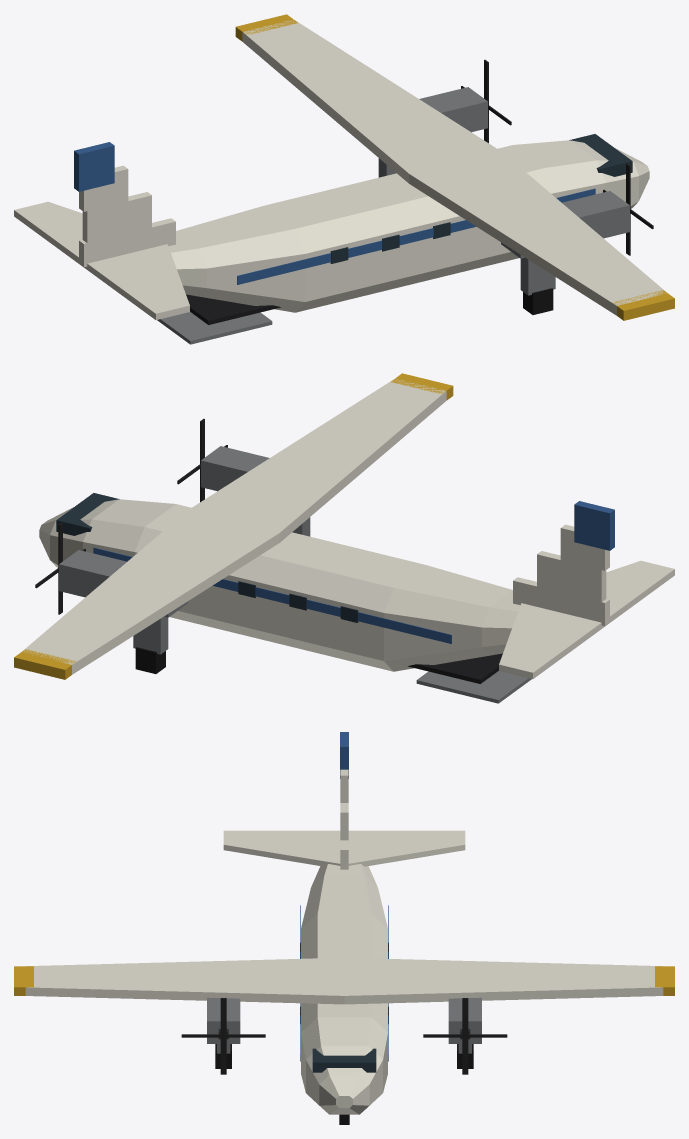
Rendered from aviao_salto.glb.
3 views of the same model, one above another, from view 1: azimuth 30°, elevation 25°; view 2: azimuth 150°, elevation 25°; view 3: azimuth 270°, elevation 25° (orthographic). The views are drawn at different scales.
Parts seen in each view (by area): view 1: aviao_salto; view 2: aviao_salto; view 3: aviao_salto.
Part boxes in pixels (box(x1,y1,x2,y2)): aviao_salto: box(14, 14, 674, 344); aviao_salto: box(14, 373, 674, 703); aviao_salto: box(14, 732, 674, 1124).
Size of the model in its own units: 16.65 by 5.85 by 19.7.
